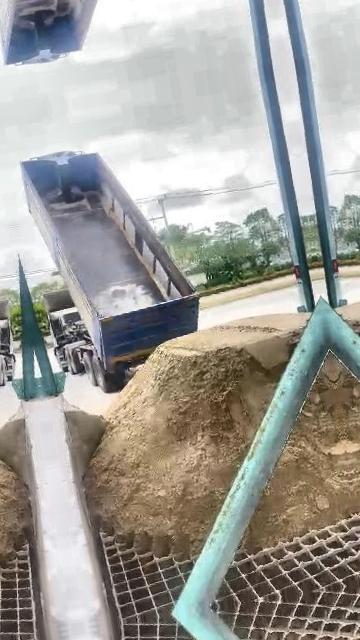sand: (85, 314, 307, 556), (245, 358, 356, 549), (64, 401, 106, 478)
